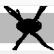not correct: (0, 6, 54, 52)
